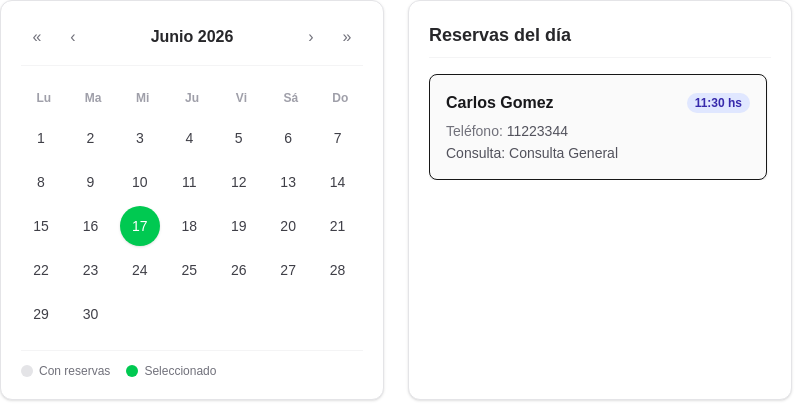
Scenario: CalendarioAdmin - Criterios del Panel de Reservas › Escenario 2 (Panel de citas): Día sin reservas muestra la ilustración/texto descriptivo y ninguna tarjeta vacía
Expected: the text "Carlos Gomez" is shown, [446,91,554,115]
Hacemos clic en el día 18
Click the button "18": (189, 226) [169,206,209,246]
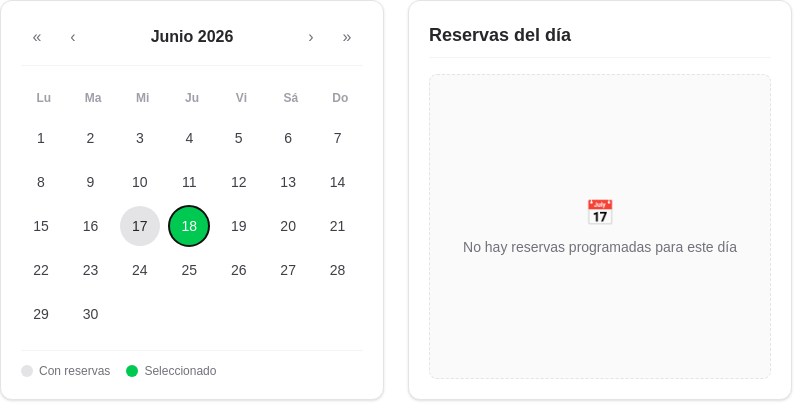
Result: the text "No hay reservas programadas para este día" is shown at [463,236,737,256]
Result: the text "Carlos Gomez" is gone
Result: the text "Teléfono:" is gone
